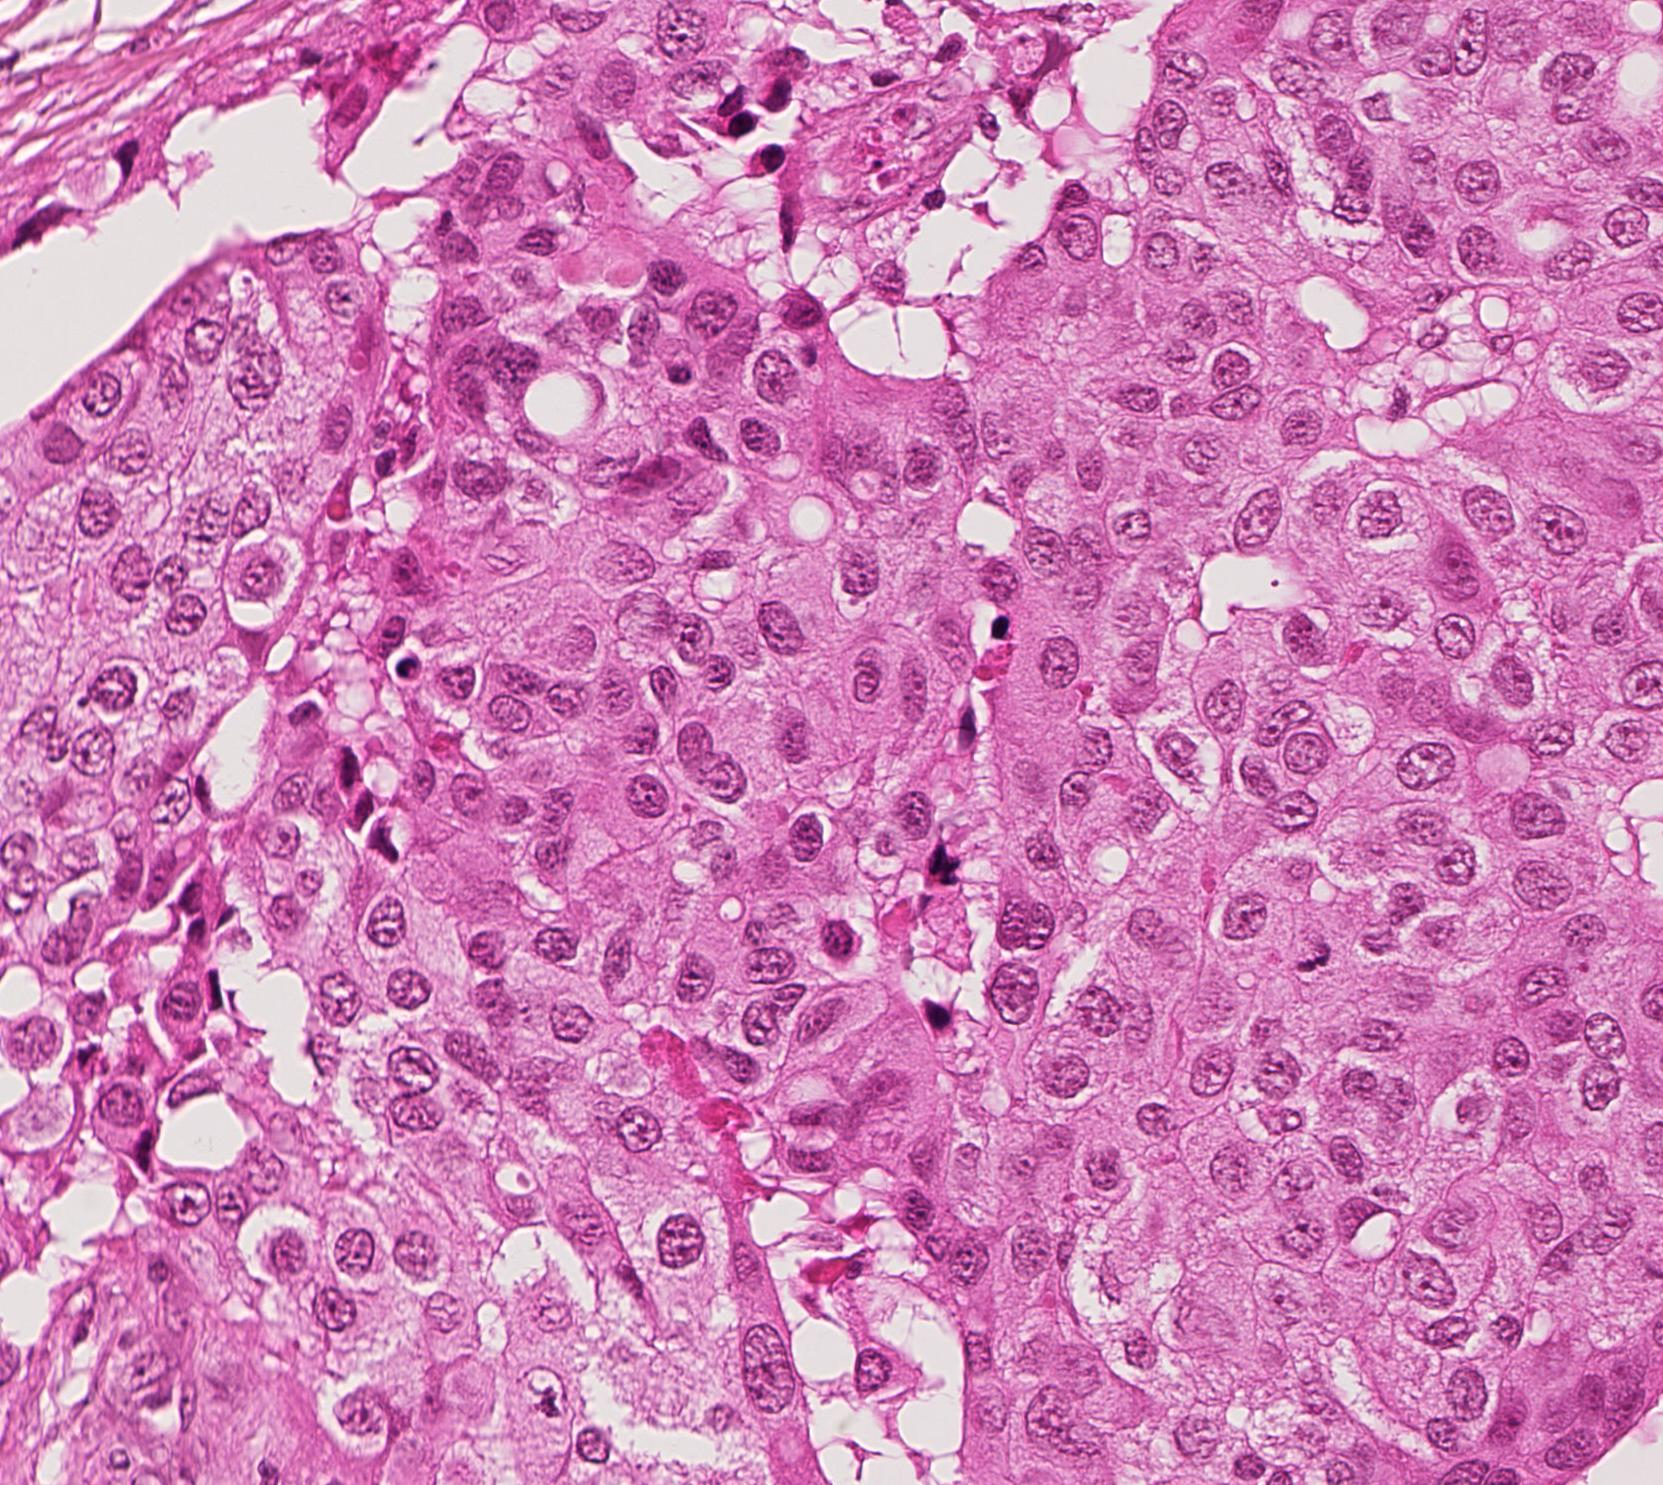mitosis: (1280, 933, 1340, 993)
